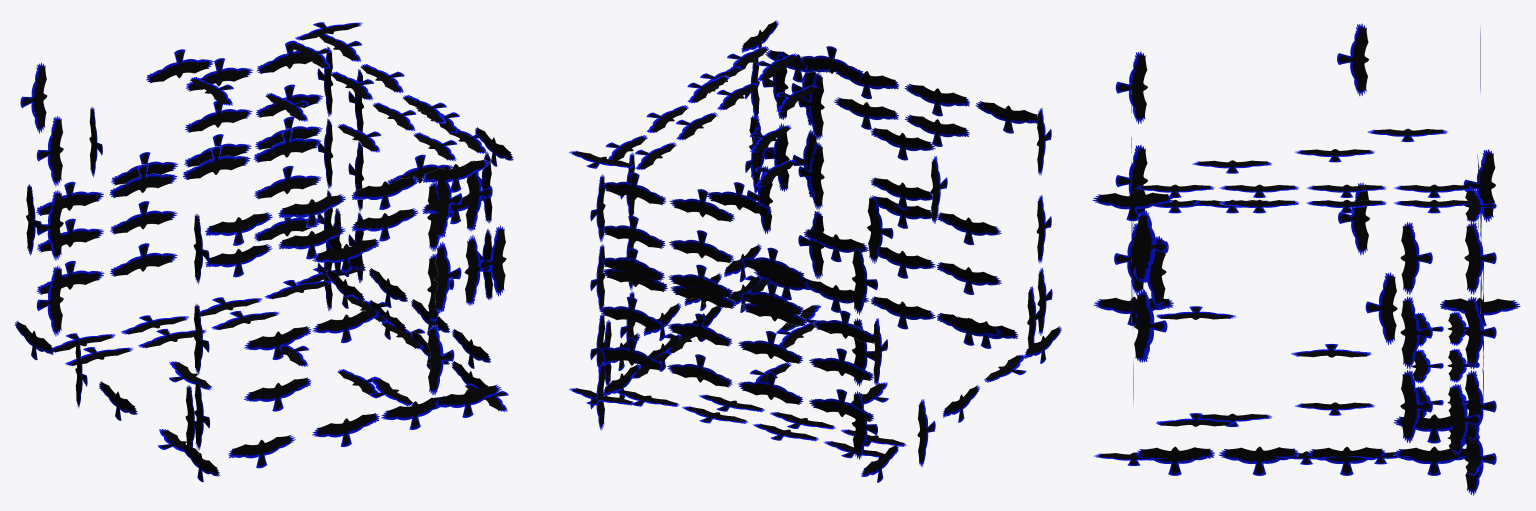
The model's file is asset.glb.
3 renders of one model, left to right at view 1: azimuth 30°, elevation 25°; view 2: azimuth 150°, elevation 25°; view 3: azimuth 270°, elevation 25°, orthographic. The views are drawn at different scales.
Visible parts, largest first — view 1: vogelstickerrichtig.015, vogelstickerrichtig.132, vogelstickerrichtig.134, vogelstickerrichtig.232, vogelstickerrichtig.009, vogelstickerrichtig.014, vogelstickerrichtig.043, vogelstickerrichtig.113, vogelstickerrichtig.237, vogelstickerrichtig.236, vogelstickerrichtig.111, vogelstickerrichtig.146 (+36 smaller); view 2: vogelstickerrichtig.225, vogelstickerrichtig.210, vogelstickerrichtig.224, vogelstickerrichtig.212, vogelstickerrichtig.213, vogelstickerrichtig.218, vogelstickerrichtig.214, vogelstickerrichtig.217, vogelstickerrichtig.219, vogelstickerrichtig.220, vogelstickerrichtig.112, vogelstickerrichtig.215 (+37 smaller); view 3: vogelstickerrichtig.007, vogelstickerrichtig.011, vogelstickerrichtig.038, vogelstickerrichtig.039, vogelstickerrichtig.040, vogelstickerrichtig.135, vogelstickerrichtig.032, vogelstickerrichtig.142, vogelstickerrichtig.143, vogelstickerrichtig.019, vogelstickerrichtig.012, vogelstickerrichtig.034 (+32 smaller).
Part boxes in pixels (box(x1,y1,x2,y2)): vogelstickerrichtig.015: box(434, 384, 501, 417); vogelstickerrichtig.132: box(36, 265, 63, 336); vogelstickerrichtig.134: box(36, 116, 63, 186); vogelstickerrichtig.232: box(244, 377, 311, 411); vogelstickerrichtig.009: box(146, 49, 213, 83); vogelstickerrichtig.014: box(228, 435, 295, 468); vogelstickerrichtig.043: box(427, 325, 454, 394); vogelstickerrichtig.113: box(351, 176, 418, 209); vogelstickerrichtig.237: box(312, 309, 379, 343); vogelstickerrichtig.236: box(244, 326, 311, 359); vogelstickerrichtig.111: box(205, 212, 272, 245); vogelstickerrichtig.146: box(183, 146, 250, 179); vogelstickerrichtig.225: box(599, 337, 663, 370); vogelstickerrichtig.210: box(669, 230, 733, 263); vogelstickerrichtig.224: box(667, 354, 732, 387); vogelstickerrichtig.212: box(600, 215, 665, 248); vogelstickerrichtig.213: box(599, 296, 663, 329); vogelstickerrichtig.218: box(668, 264, 733, 297); vogelstickerrichtig.214: box(667, 313, 732, 346); vogelstickerrichtig.217: box(739, 282, 803, 315); vogelstickerrichtig.219: box(600, 247, 664, 280); vogelstickerrichtig.220: box(601, 172, 666, 205); vogelstickerrichtig.112: box(904, 83, 969, 116); vogelstickerrichtig.215: box(738, 331, 802, 363); vogelstickerrichtig.007: box(1464, 296, 1496, 369); vogelstickerrichtig.011: box(1092, 192, 1172, 221); vogelstickerrichtig.038: box(1400, 370, 1432, 442); vogelstickerrichtig.039: box(1400, 222, 1432, 294); vogelstickerrichtig.040: box(1400, 296, 1432, 369); vogelstickerrichtig.135: box(1448, 383, 1480, 456); vogelstickerrichtig.032: box(1337, 23, 1369, 96); vogelstickerrichtig.142: box(1135, 210, 1167, 282); vogelstickerrichtig.143: box(1133, 289, 1165, 362); vogelstickerrichtig.019: box(1115, 51, 1147, 124); vogelstickerrichtig.012: box(1464, 222, 1496, 294); vogelstickerrichtig.034: box(1365, 272, 1397, 344).
Size of the model in its own units: 11.69 by 10.43 by 12.38.
Materials: 1 (1 with a texture image).
